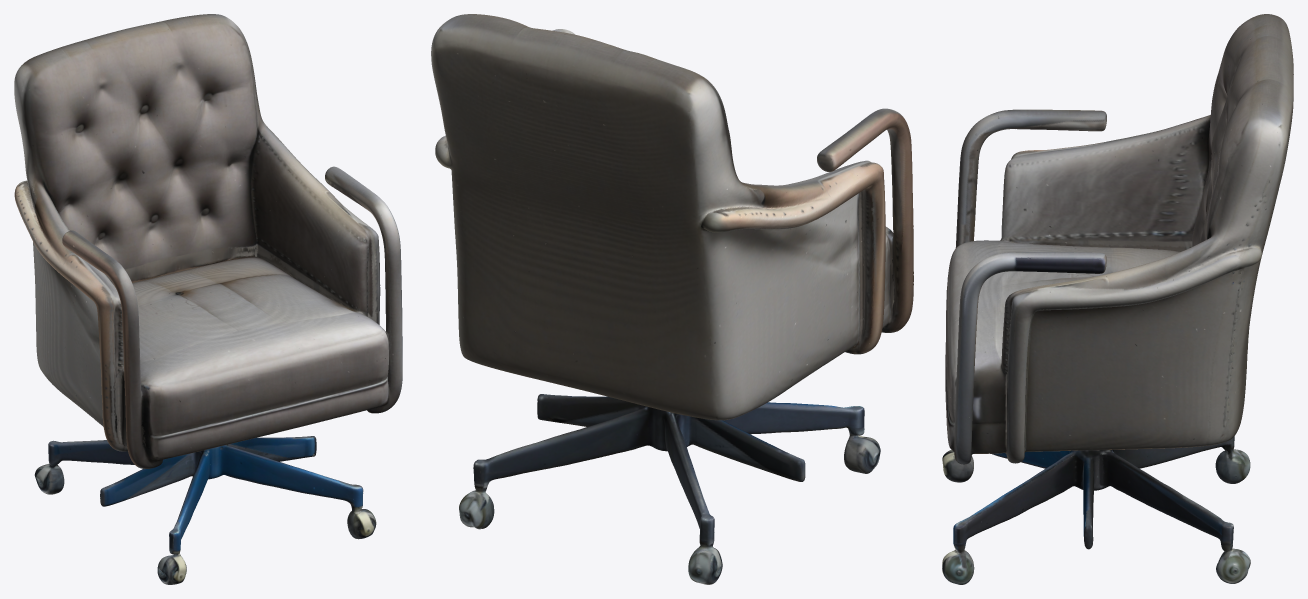
The model's file is Meshy_AI_crea_una_poltroncina__0205074750_texture.glb.
3 renders of one model, left to right at view 1: azimuth 30°, elevation 25°; view 2: azimuth 150°, elevation 25°; view 3: azimuth 270°, elevation 25°, orthographic. The views are drawn at different scales.
Bounding box in the file's own units: 1.36 × 2 × 1.34.
1 material, 1 textured.
